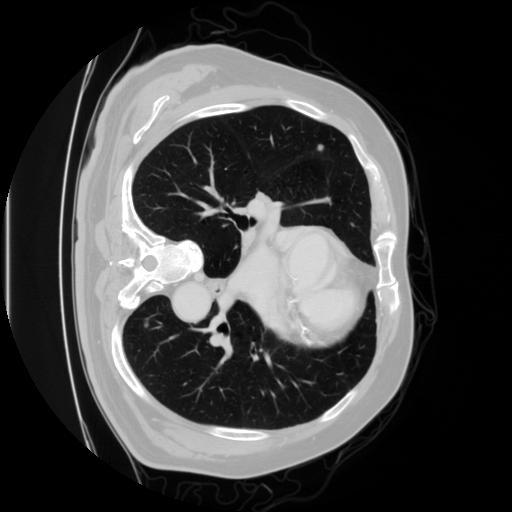nodule: (315, 141, 328, 154)
